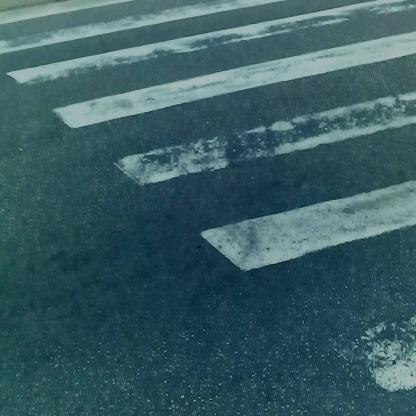crosswalk: (5, 7, 416, 379)
